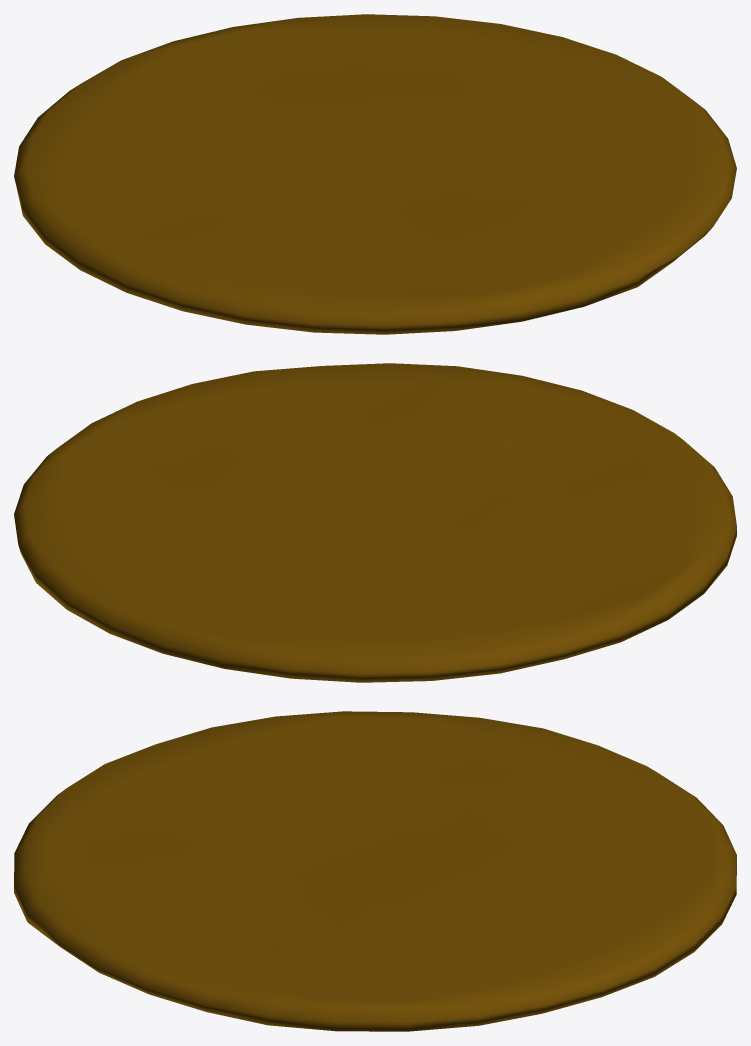
Rendered from carpet2.fbx.
3 renders of one model, top to bottom at view 1: azimuth 30°, elevation 25°; view 2: azimuth 150°, elevation 25°; view 3: azimuth 270°, elevation 25°, orthographic.
Visible parts, largest first — view 1: carpet2; view 2: carpet2; view 3: carpet2.
Part boxes in pixels (bbox=[...]): carpet2: bbox=[14, 14, 736, 334]; carpet2: bbox=[14, 363, 736, 682]; carpet2: bbox=[14, 711, 736, 1031].
Bounding box in the file's own units: 99.58 × 3.84 × 99.58.
